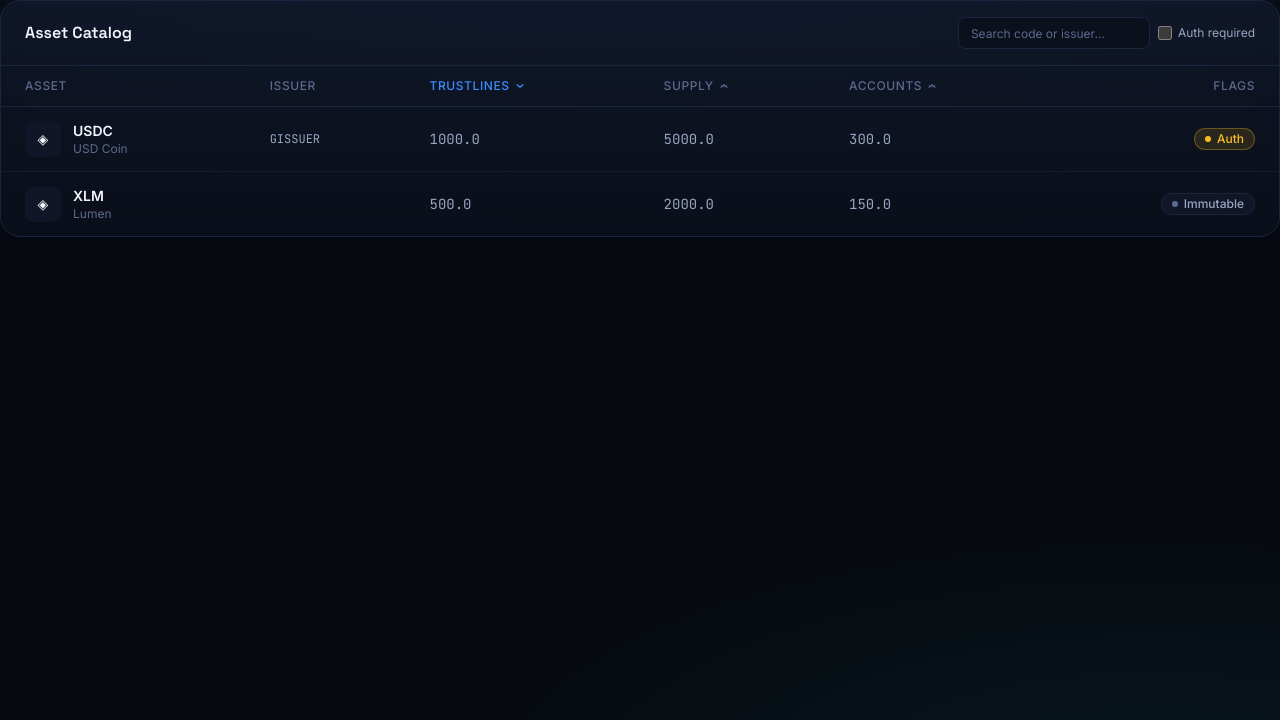
Test: AssetBrowser › filters by search query
Type "usdc" into the field named "Search assets" at point(1054, 33), box [958, 17, 1150, 49]
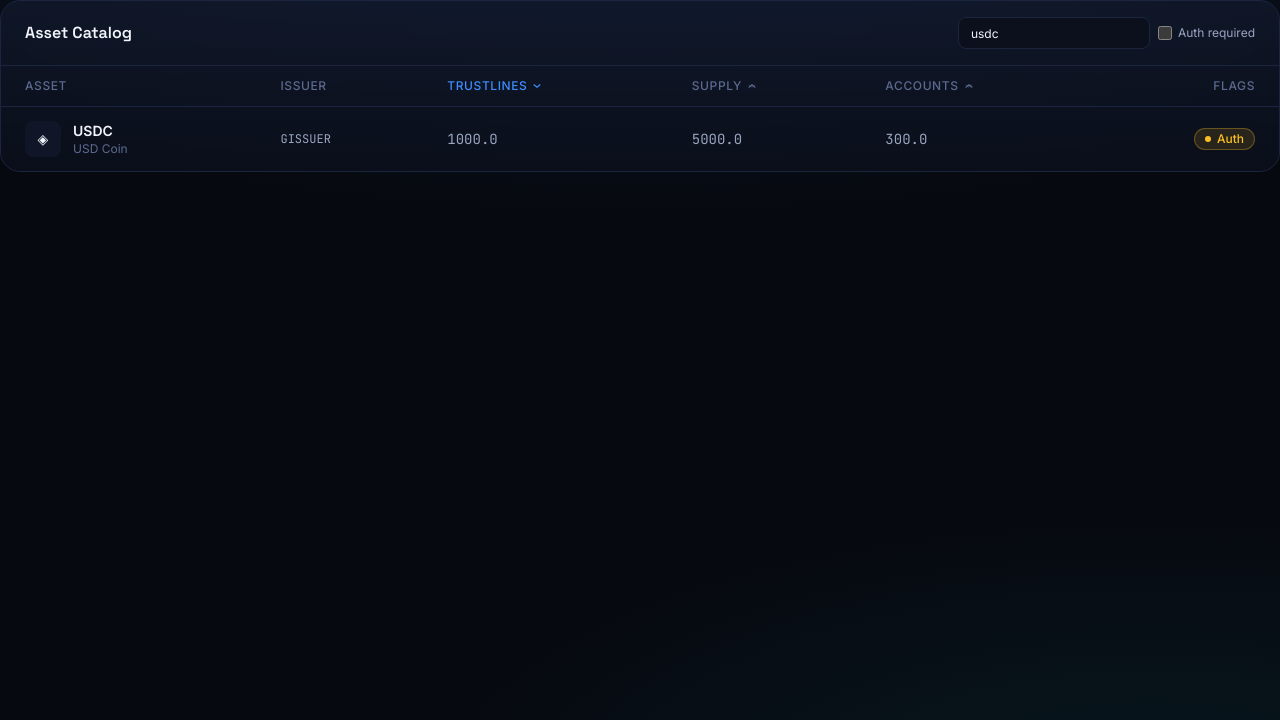
Expected: the text "USD Coin" is shown, [73, 141, 128, 157]
Expected: the text "Lumen" is gone
